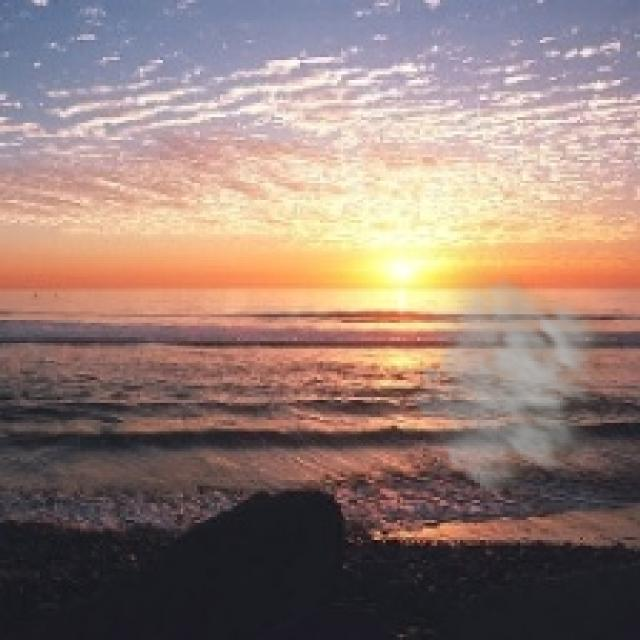smoke: (406, 266, 637, 506)
